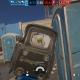Character: (41, 39, 42, 44)
Friend_label: (26, 44, 30, 48), (10, 47, 14, 50), (0, 42, 2, 45)
Head: (41, 39, 42, 40)
